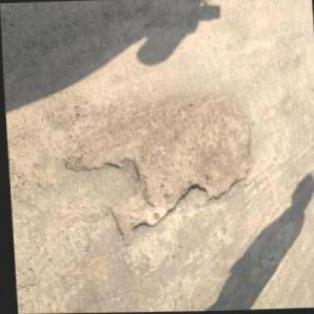Hueco: (57, 90, 258, 248)
